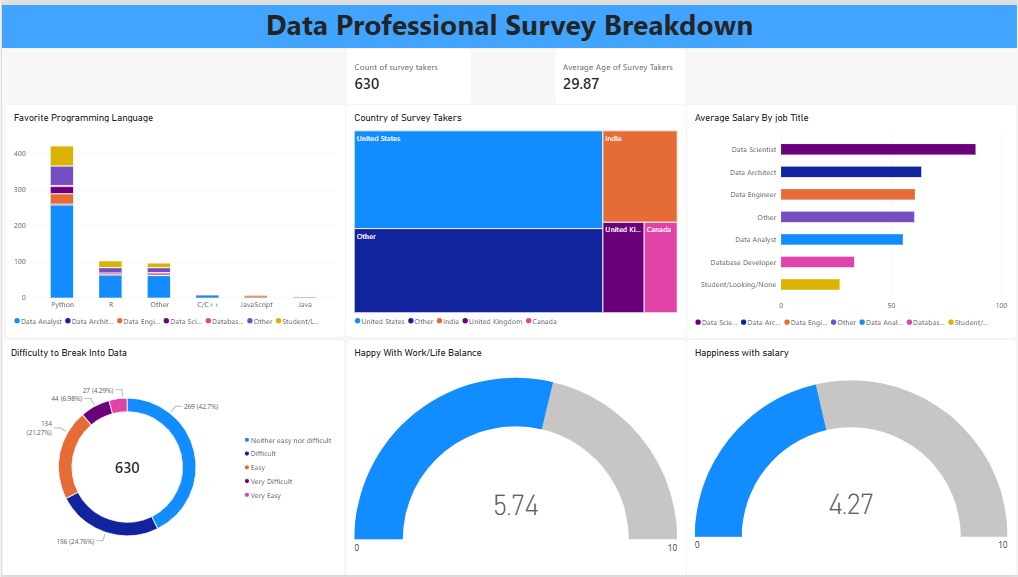

Layout of this report page (visuals, bound fields, positions):
{"tool":"powerbi","page":{"name":"Page 1","canvas":[1920,1080],"ordinal":0},"visuals":[{"type":"textbox","box":[0,0,1918.3,81.1],"z":0},{"type":"cardVisual","fields":{"Data":["Avg(Data Professional Survey.Q10 - Current Age)"]},"box":[1042.6,81.1,250.5,107.4],"z":1},{"type":"cardVisual","fields":{"Data":["Data Professional Survey.Count of survey takers"]},"box":[649,81.1,238.6,107.4],"z":2},{"type":"barChart","title":"Average Salary By job Title","fields":{"Category":["Data Professional Survey.Q1 - Which Title Best Fits your Current Role?.1"],"Series":["Data Professional Survey.Q1 - Which Title Best Fits your Current Role?.1"],"Y":["Avg(Data Professional Survey.Average of salary)"]},"box":[1293.2,188.5,625.1,443.8],"z":3},{"type":"columnChart","title":"Favorite Programming Language","fields":{"Category":["Data Professional Survey.Q5 - Favorite Programming Language.2"],"Series":["Data Professional Survey.Q1 - Which Title Best Fits your Current Role?.1"],"Y":["CountNonNull(Data Professional Survey.Unique ID)"]},"box":[4.8,188.5,644.2,441.4],"z":4},{"type":"treemap","title":"Country of Survey Takers ","fields":{"Group":["Data Professional Survey.Q11 - Which Country do you live in?.1"],"Values":["CountNonNull(Data Professional Survey.Q11 - Which Country do you live in?.1)"]},"box":[649,188.5,644.2,441.4],"z":5},{"type":"gauge","title":"Happy With Work/Life Balance","fields":{"MaxValue":["Max(Data Professional Survey.Q6 - How Happy are you in your Current Position with the following? (Work/Life Balance))"],"MinValue":["Min(Data Professional Survey.Q6 - How Happy are you in your Current Position with the following? (Work/Life Balance))1"],"Y":["Avg(Data Professional Survey.Q6 - How Happy are you in your Current Position with the following? (Work/Life Balance))"]},"box":[649,632.3,644.2,448.6],"z":6},{"type":"gauge","title":"Happiness with salary","fields":{"MaxValue":["Max(Data Professional Survey.Q6 - How Happy are you in your Current Position with the following? (Salary))"],"MinValue":["Min(Data Professional Survey.Q6 - How Happy are you in your Current Position with the following? (Salary))1"],"Y":["Avg(Data Professional Survey.Q6 - How Happy are you in your Current Position with the following? (Salary))"]},"box":[1293.2,632.3,625.1,448.6],"z":7},{"type":"donutChart","title":"Difficulty to Break Into Data","fields":{"Category":["Data Professional Survey.Q7 - How difficult was it for you to break into Data?","Data Professional Survey.Q9 - Male/Female?"],"Y":["CountNonNull(Data Professional Survey.Q7 - How difficult was it for you to break into Data?)"]},"box":[0,632.3,649,448.6],"z":8}]}

Visuals, with their boxes in screenshot pixels (x1, y1, x2, y2), scaled from the page's 1920x1080 canvas onto the 1018x577 screenshot:
textbox: (0,0,1017,43)
cardVisual - Avg(Data Professional Survey.Q10 - Current Age): (553,43,686,101)
cardVisual - Data Professional Survey.Count of survey takers: (344,43,471,101)
"Average Salary By job Title" barChart: (686,101,1017,338)
"Favorite Programming Language" columnChart: (3,101,344,337)
"Country of Survey Takers " treemap: (344,101,686,337)
"Happy With Work/Life Balance" gauge: (344,338,686,576)
"Happiness with salary" gauge: (686,338,1017,576)
"Difficulty to Break Into Data" donutChart: (0,338,344,576)
